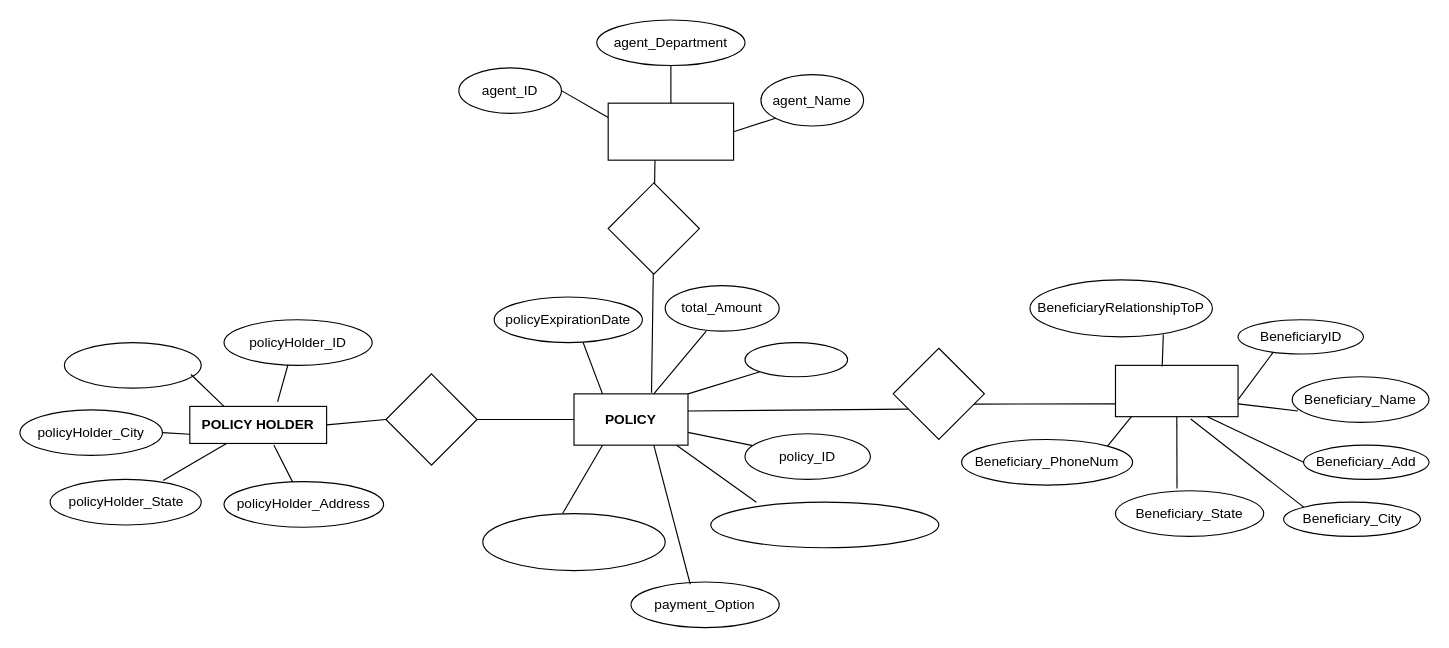
The diagram is 1449 pixels wide and 648 high, and some of its shapes have lost their labels. Each missing label, with the centre of its shape:
"AGENT" belongs at point 670,131.
"BENEFICIARY" belongs at point 1176,390.
"Claimed by" belongs at point 938,393.
"Held by" belongs at point 431,419.
"policyHolder_Name" belongs at point 132,364.
"policyHolder_PhoneNum" belongs at point 573,541.
"policyHolder_RelationshipToB" belongs at point 824,524.
"Sells" belongs at point 653,228.
"typeOfPolicy" belongs at point 796,359.
